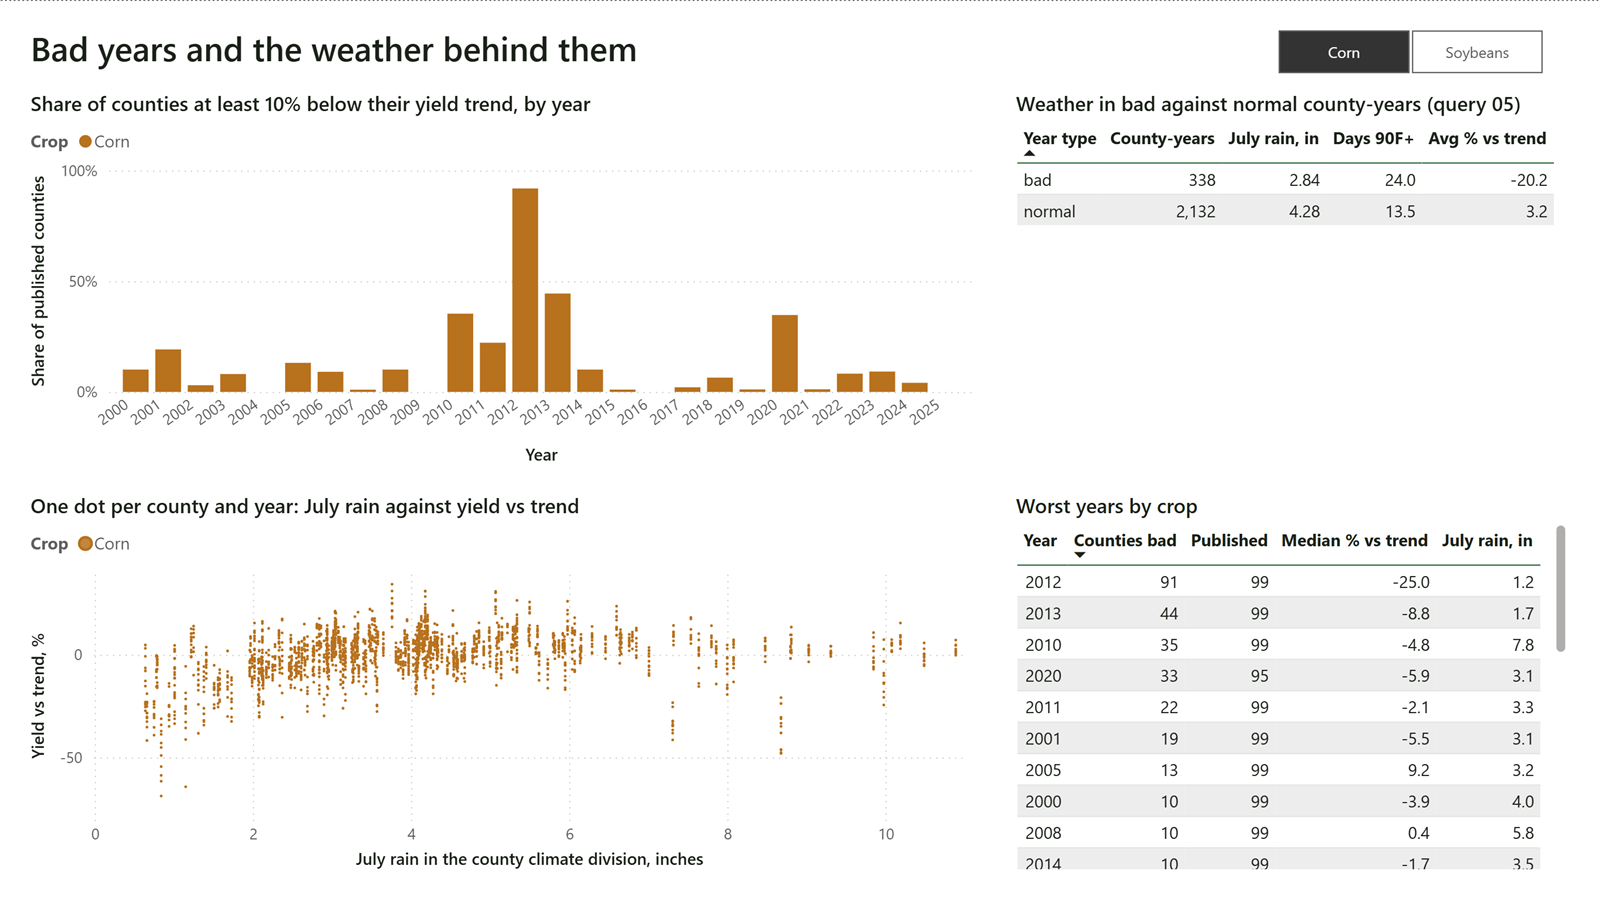

The dashboard page shown, as its layout file describes it:
{"tool":"powerbi","page":{"name":"Bad years and weather","canvas":[1280,720],"ordinal":2},"visuals":[{"type":"textbox","box":[24,14,940,48],"z":2100},{"type":"slicer","fields":{"Values":["Crop Type.Crop"]},"box":[996,16,260,48],"z":2200},{"type":"clusteredColumnChart","title":"Share of counties at least 10% below their yield trend, by year","fields":{"Category":["Crop Year.Year"],"Y":["Crop Year.Share Bad"],"Series":["Crop Type.Crop"]},"box":[24,70,760,304],"z":2300},{"type":"tableEx","title":"Weather in bad against normal county-years (query 05)","fields":{"Values":["Weather in Bad Years.Year Type","Weather in Bad Years.County Years","Weather in Bad Years.July Rain","Weather in Bad Years.Days 90F","Weather in Bad Years.Pct vs Trend"]},"box":[808,70,448,304],"z":2400},{"type":"scatterChart","title":"One dot per county and year: July rain against yield vs trend","fields":{"Category":["Crop Year.County Year"],"Series":["Crop Type.Crop"],"X":["Crop Year.July Rain (in)"],"Y":["Crop Year.Avg Pct vs Trend"]},"box":[24,390,760,306],"z":2500},{"type":"tableEx","title":"Worst years by crop","fields":{"Values":["Worst Years.Year","Worst Years.Counties Bad","Worst Years.Counties Published","Worst Years.Median Pct vs Trend","Worst Years.July Rain"]},"box":[808,390,448,306],"z":2600}]}

Visuals, with their boxes in screenshot pixels (x1, y1, x2, y2), scaled from the page's 1280x720 canvas onto the 1600x905 screenshot:
textbox: l=30, t=18, r=1205, b=78
slicer - Crop Type.Crop: l=1245, t=20, r=1570, b=80
"Share of counties at least 10% below their yield trend, by year" clusteredColumnChart: l=30, t=88, r=980, b=470
"Weather in bad against normal county-years (query 05)" tableEx: l=1010, t=88, r=1570, b=470
"One dot per county and year: July rain against yield vs trend" scatterChart: l=30, t=490, r=980, b=875
"Worst years by crop" tableEx: l=1010, t=490, r=1570, b=875
